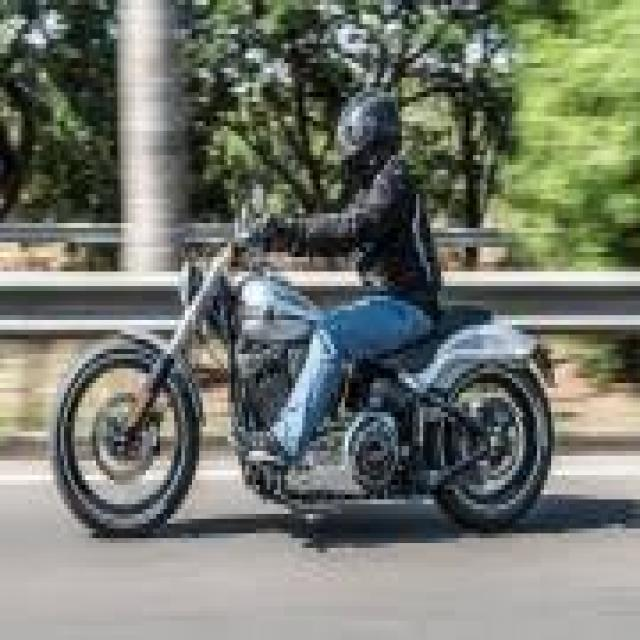Bike: (46, 188, 549, 530)
